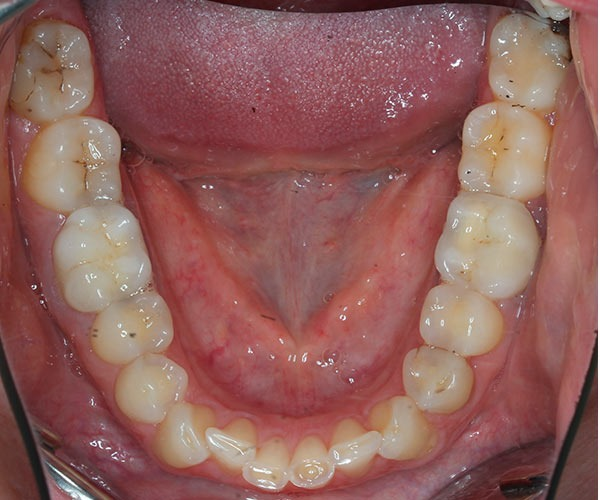LL1BC_decay: (401, 348, 473, 406)
LL1M_healthy: (437, 194, 537, 292)
LL2BC_healthy: (419, 281, 505, 353)
LL2M_decay: (455, 108, 543, 192)
LL3M_decay: (488, 17, 566, 103)
LLCI_healthy: (289, 433, 333, 488)
LLC_healthy: (372, 399, 428, 458)
LLLI_healthy: (330, 418, 381, 477)
LR1BC_healthy: (117, 356, 187, 414)
LR1M_healthy: (54, 211, 153, 297)
LR2BC_decay: (90, 295, 175, 355)
LR2M_decay: (39, 121, 124, 207)
LR3M_decay: (13, 23, 94, 116)
LRCI_decay: (255, 435, 289, 490)
LRC_healthy: (164, 402, 208, 461)
LRLI_decay: (210, 419, 257, 468)
